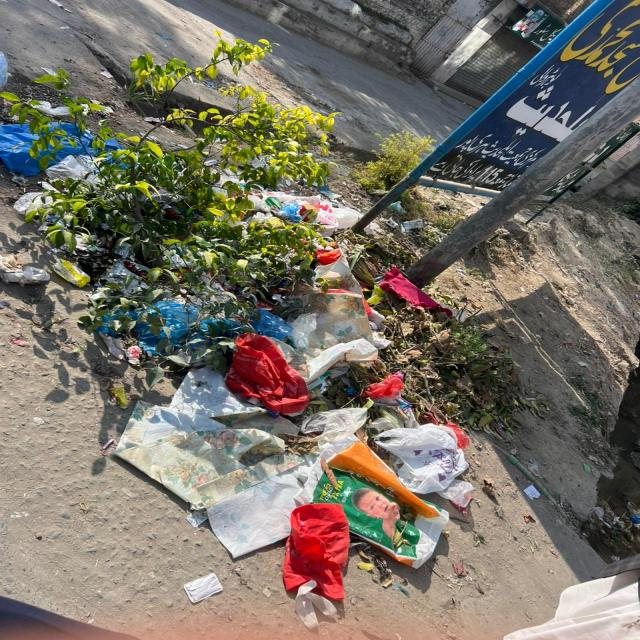garbage: (18, 91, 450, 574)
